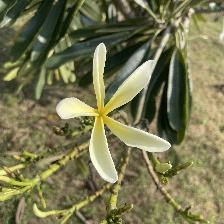champaka: (55, 41, 171, 185)
